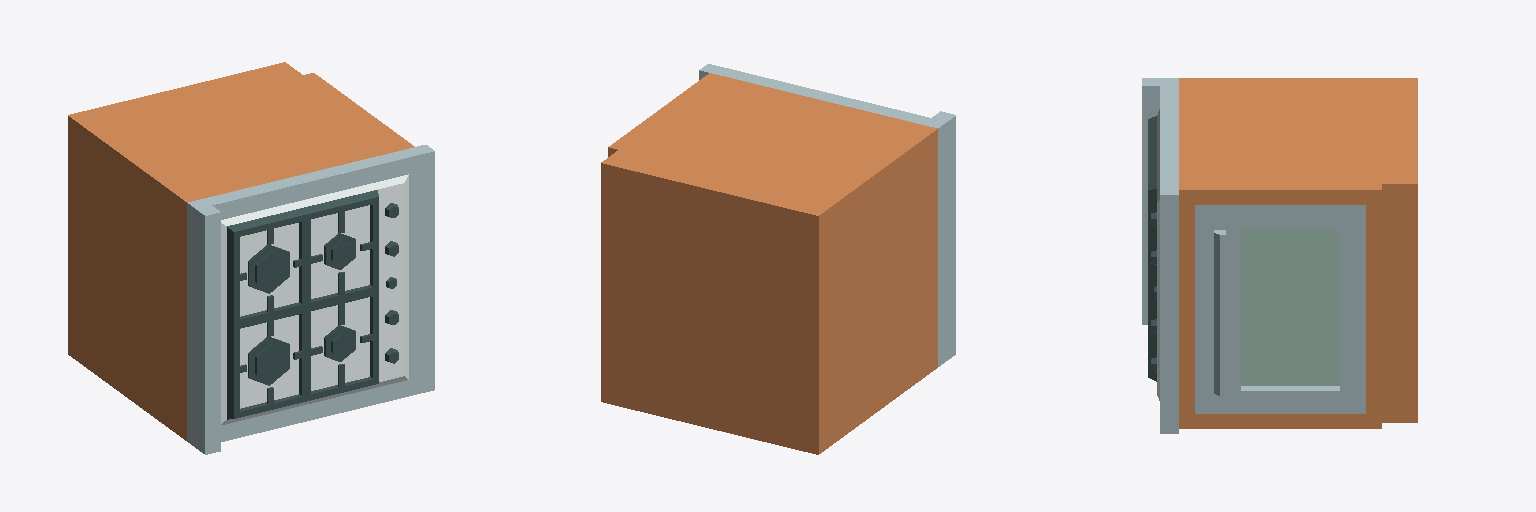
Rendered from kitchenStove.obj.
3 views of the same model, side by side, from view 1: azimuth 30°, elevation 25°; view 2: azimuth 150°, elevation 25°; view 3: azimuth 270°, elevation 25° (orthographic).
Parts seen in each view (by area): view 1: kitchenStove; view 2: kitchenStove; view 3: kitchenStove.
Boxes of the visible parts, x1,y1,x2,y2 form: kitchenStove: [68, 62, 434, 454]; kitchenStove: [601, 64, 955, 454]; kitchenStove: [1142, 78, 1417, 433].
Size of the model in its own units: 3.1 by 2.97 by 3.1.